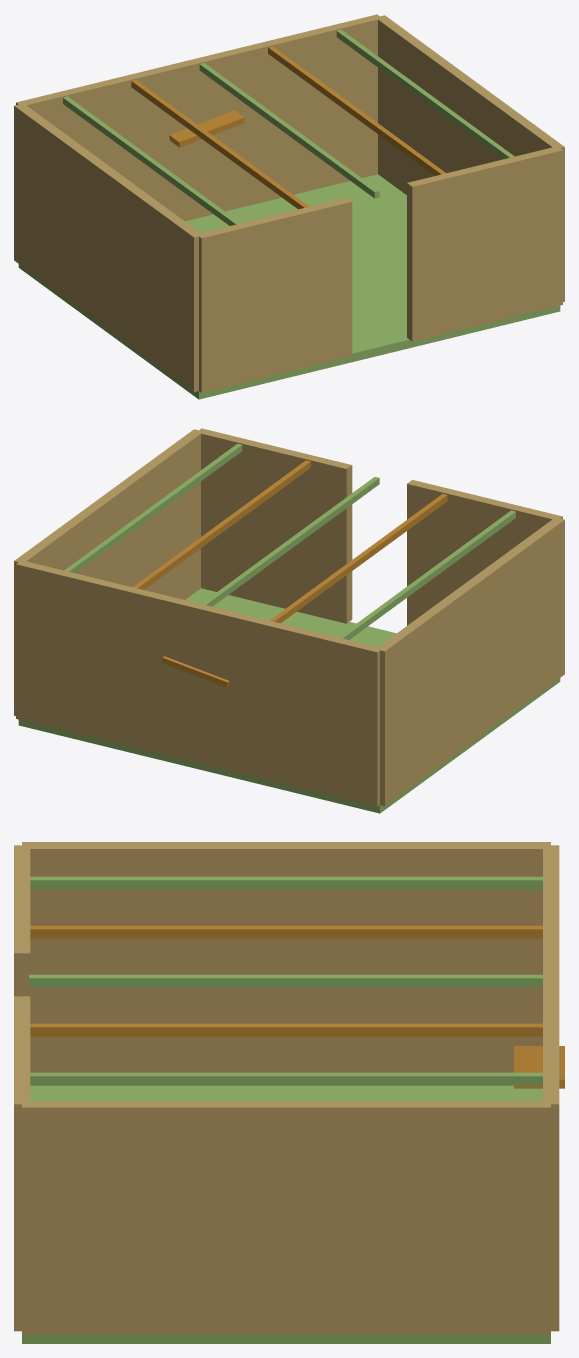
File: shepherd_bee_pavilion.glb
3 views of the same model, one above another, from view 1: azimuth 30°, elevation 25°; view 2: azimuth 150°, elevation 25°; view 3: azimuth 270°, elevation 25° (orthographic). The views are drawn at different scales.
Visible parts, largest first — view 1: wall_north, wall_west, wall_south_right, wall_south_left, wall_east, floor, ceiling_beam_0, ceiling_beam_2, ceiling_beam_-1, ceiling_beam_1, ceiling_beam_-2, purpose_beekeeper_pavilion; view 2: wall_north, wall_west, wall_south_right, wall_east, wall_south_left, floor, ceiling_beam_0, ceiling_beam_2, ceiling_beam_-1, ceiling_beam_1, ceiling_beam_-2, purpose_beekeeper_pavilion; view 3: wall_east, wall_west, floor, ceiling_beam_0, ceiling_beam_-2, ceiling_beam_-1, ceiling_beam_1, ceiling_beam_2, wall_north, wall_south_right, wall_south_left, purpose_beekeeper_pavilion.
Boxes of the visible parts, box(x1,y1,x2,y2) form: wall_north: box(16, 14, 382, 221); wall_west: box(14, 104, 203, 391); wall_south_right: box(407, 146, 562, 341); wall_south_left: box(199, 197, 352, 392); wall_east: box(377, 15, 564, 301); floor: box(18, 174, 560, 399); ceiling_beam_0: box(199, 63, 379, 198); ceiling_beam_2: box(336, 29, 514, 159); ceiling_beam_-1: box(131, 80, 308, 209); ceiling_beam_1: box(268, 46, 445, 175); ceiling_beam_-2: box(63, 96, 240, 225); purpose_beekeeper_pavilion: box(169, 110, 244, 147); wall_north: box(16, 561, 382, 806); wall_west: box(376, 517, 564, 805); wall_south_right: box(197, 428, 352, 623); wall_east: box(14, 429, 203, 715); wall_south_left: box(407, 480, 562, 625); floor: box(18, 588, 560, 813); ceiling_beam_0: box(201, 477, 379, 606); ceiling_beam_2: box(64, 443, 242, 573); ceiling_beam_-1: box(270, 494, 447, 623); ceiling_beam_1: box(133, 460, 310, 589); ceiling_beam_-2: box(338, 510, 515, 639); purpose_beekeeper_pavilion: box(162, 656, 229, 687); wall_east: box(22, 1101, 550, 1334); wall_west: box(22, 842, 550, 1072); floor: box(22, 1085, 550, 1343); ceiling_beam_0: box(29, 974, 542, 987); ceiling_beam_-2: box(30, 876, 542, 889); ceiling_beam_-1: box(30, 925, 542, 938); ceiling_beam_1: box(30, 1023, 542, 1036); ceiling_beam_2: box(30, 1072, 542, 1085); wall_north: box(543, 845, 559, 1331); wall_south_right: box(14, 996, 30, 1331); wall_south_left: box(14, 845, 30, 996); purpose_beekeeper_pavilion: box(514, 1046, 564, 1088).
Size of what is drawn, in the model's own units: 13.55 by 5.7 by 11.88.
